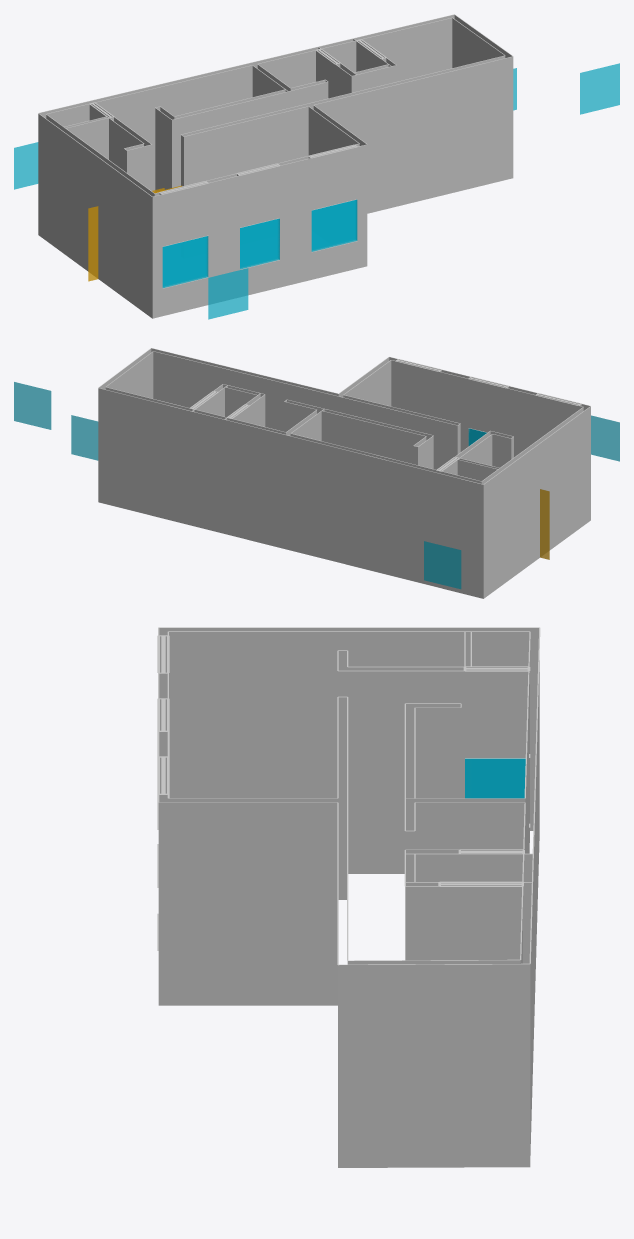
File: 9132d98c-383f-4d81-b9ea-6fb5ffedd0fc.glb
3 renders of one model, top to bottom at view 1: azimuth 30°, elevation 25°; view 2: azimuth 150°, elevation 25°; view 3: azimuth 270°, elevation 25°, orthographic. The views are drawn at different scales.
Parts seen in each view (by area): view 1: walls, windows, roof, doors; view 2: walls, windows, roof, doors; view 3: walls, roof, windows.
Boxes of the visible parts, box(x1,y1,x2,y2) form: walls: box(38, 14, 513, 318); windows: box(14, 63, 619, 319); roof: box(38, 14, 513, 196); doors: box(88, 185, 181, 281); walls: box(98, 348, 590, 598); windows: box(14, 382, 619, 589); roof: box(98, 348, 590, 484); doors: box(540, 489, 549, 559); walls: box(157, 628, 539, 1167); roof: box(158, 627, 540, 965); windows: box(465, 758, 525, 798).
Size of the model in its own units: 16.57 by 3.5 by 9.46.
